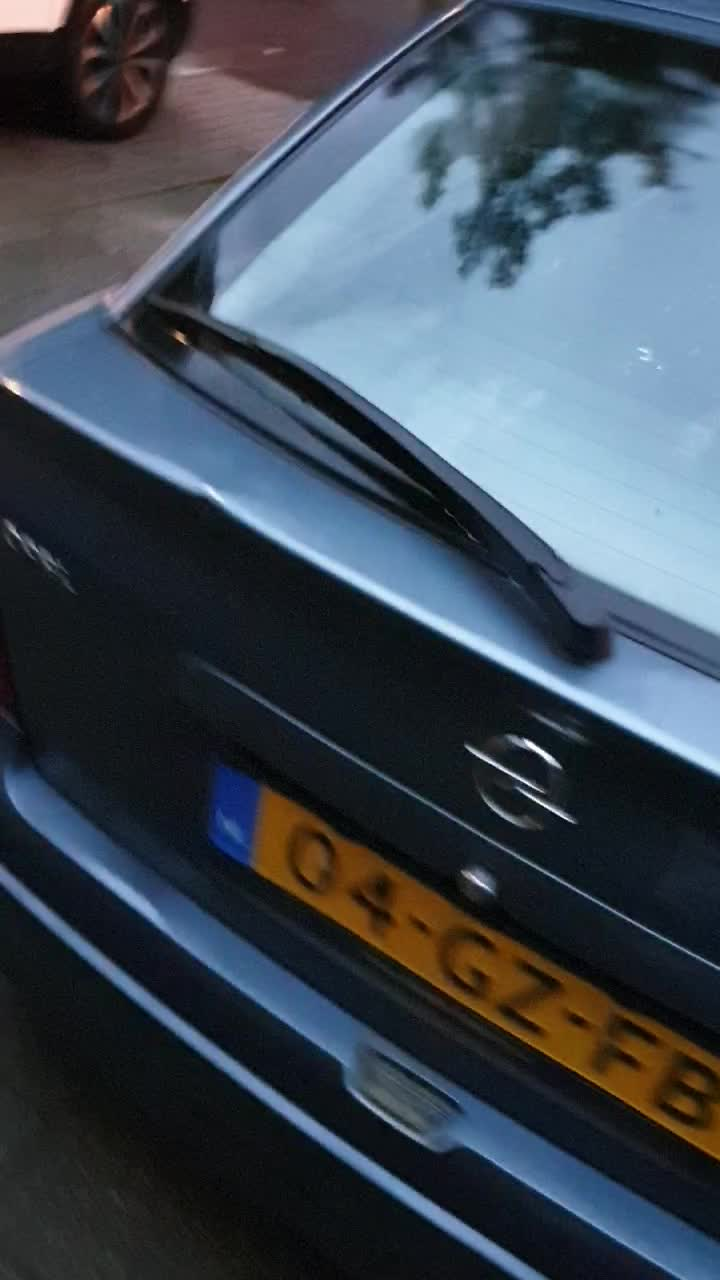plate: (164, 779, 719, 1156)
